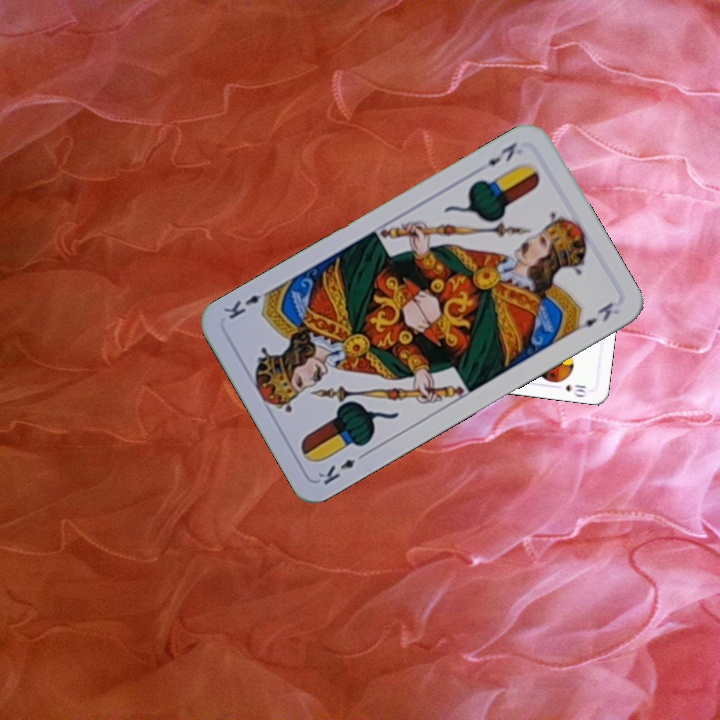EK: (313, 448, 370, 488), (483, 138, 520, 169)
